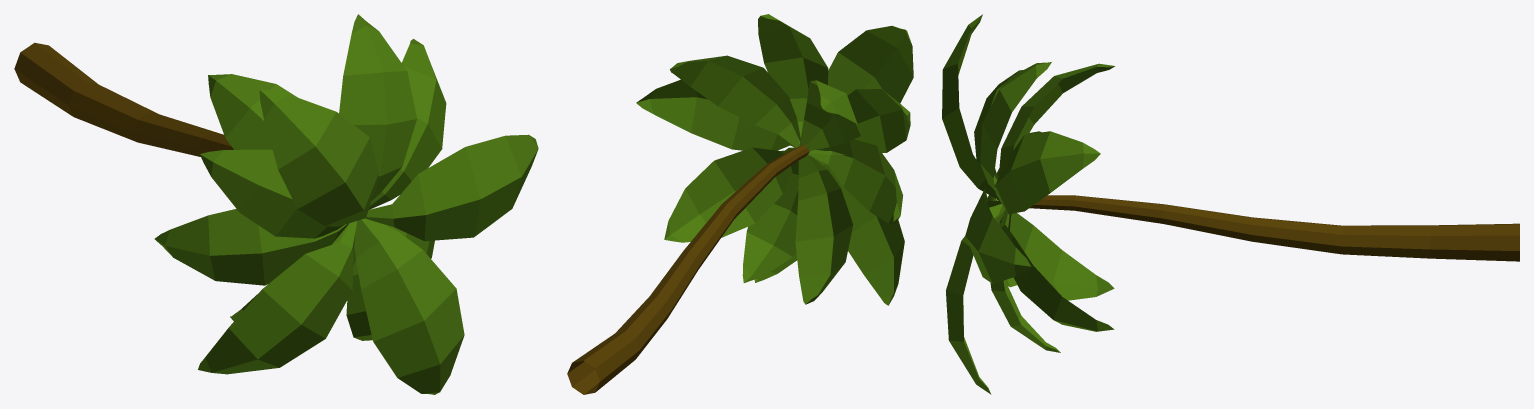
The model's file is sub-trop-desert.tall.gltf.
The picture shows the model from 3 angles, left to right: view 1: azimuth 30°, elevation 25°; view 2: azimuth 150°, elevation 25°; view 3: azimuth 270°, elevation 25°; orthographic projection. The views are drawn at different scales.
Visible parts, largest first — view 1: canopy, trunk; view 2: canopy, trunk; view 3: canopy, trunk.
Part boxes in pixels (box(x1,y1,x2,y2)): canopy: box(154, 14, 538, 394); trunk: box(14, 42, 233, 156); canopy: box(636, 14, 913, 305); trunk: box(567, 144, 809, 394); canopy: box(942, 14, 1115, 394); trunk: box(1029, 195, 1519, 261).
Size of the model in its own units: 0.6796 by 0.679 by 1.13.
